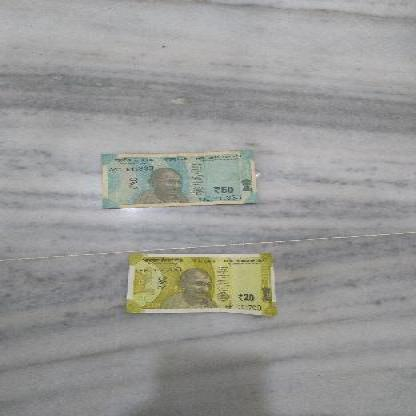New20Front: (124, 252, 280, 314)
New50Front: (104, 148, 263, 207)
